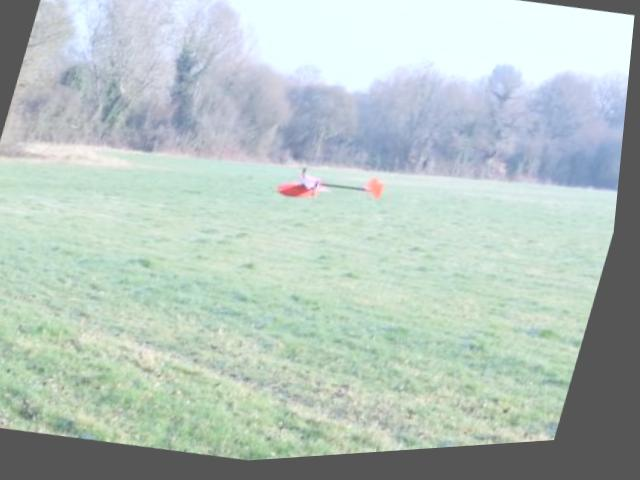uav: (279, 165, 393, 221)
